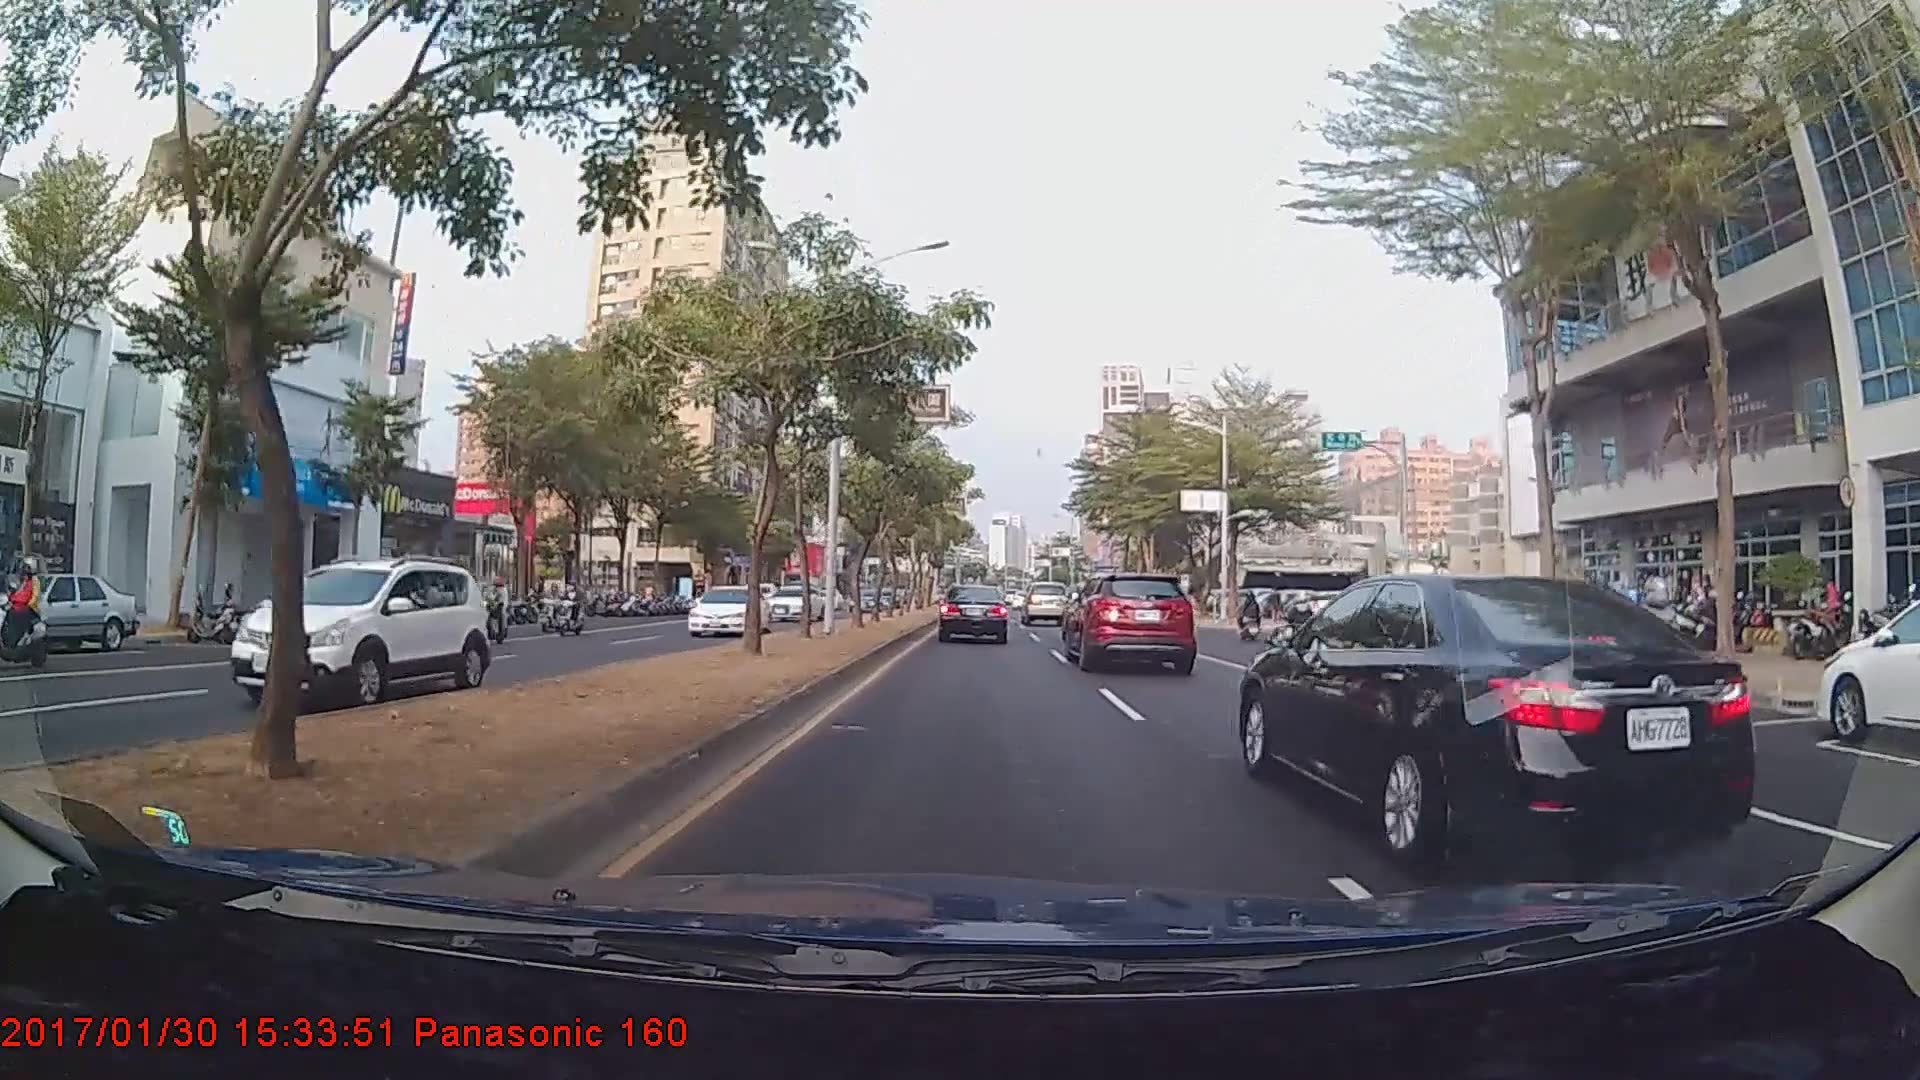rider: (1, 561, 54, 670)
vehicle: (1231, 559, 1733, 860), (228, 553, 497, 708), (1812, 590, 1920, 752), (1067, 570, 1196, 673), (0, 572, 137, 652), (685, 583, 771, 636), (937, 583, 1009, 644), (759, 583, 826, 623), (1021, 581, 1069, 626)
